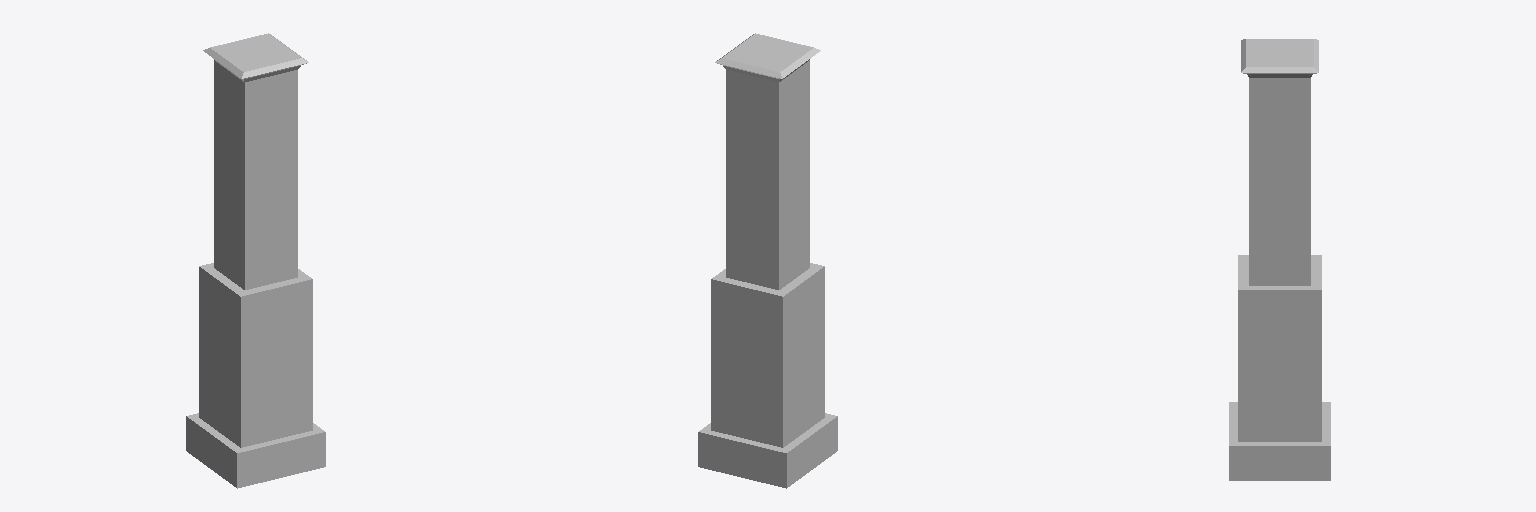
Rendered from pillar.obj.
3 views of the same model, side by side, from view 1: azimuth 30°, elevation 25°; view 2: azimuth 150°, elevation 25°; view 3: azimuth 270°, elevation 25° (orthographic).
Visible parts, largest first — view 1: Cube_Cube.002; view 2: Cube_Cube.002; view 3: Cube_Cube.002.
Part boxes in pixels (x1,y1,x2,y2): Cube_Cube.002: (186,33,325,488); Cube_Cube.002: (698,33,837,488); Cube_Cube.002: (1229,39,1330,480).
Bounding box in the file's own units: 0.5639 × 2.48 × 0.5639.